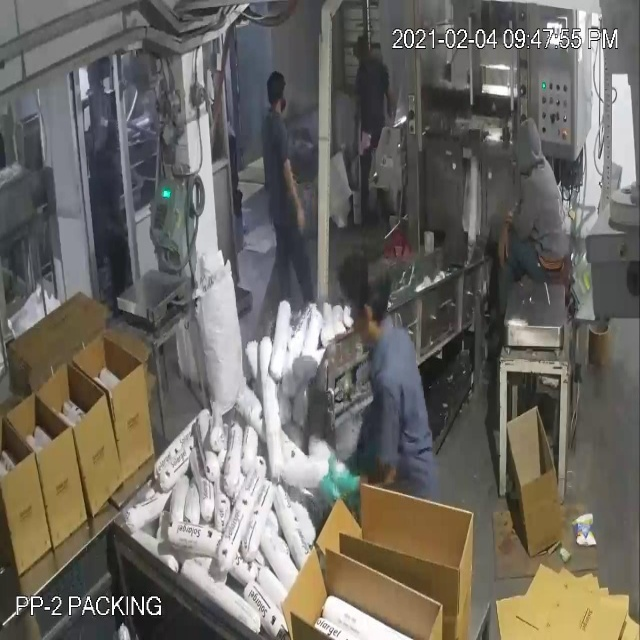Guantes: (308, 444, 380, 520)
Sin_guantes: (276, 151, 311, 236), (493, 210, 521, 275), (378, 61, 400, 128)
